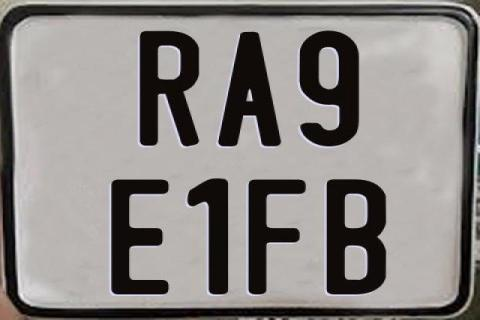0: (299, 28, 359, 144), (186, 176, 228, 294)
A: (218, 30, 286, 148)
B: (326, 177, 386, 293)
E: (109, 177, 173, 293)
F: (248, 178, 310, 294)
R: (138, 32, 203, 150)
